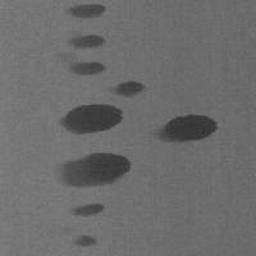Oil spot: (51, 151, 133, 189), (51, 29, 108, 77), (55, 102, 125, 137), (152, 111, 219, 146), (105, 78, 147, 99), (61, 3, 108, 20), (67, 201, 105, 218), (69, 233, 99, 248)
